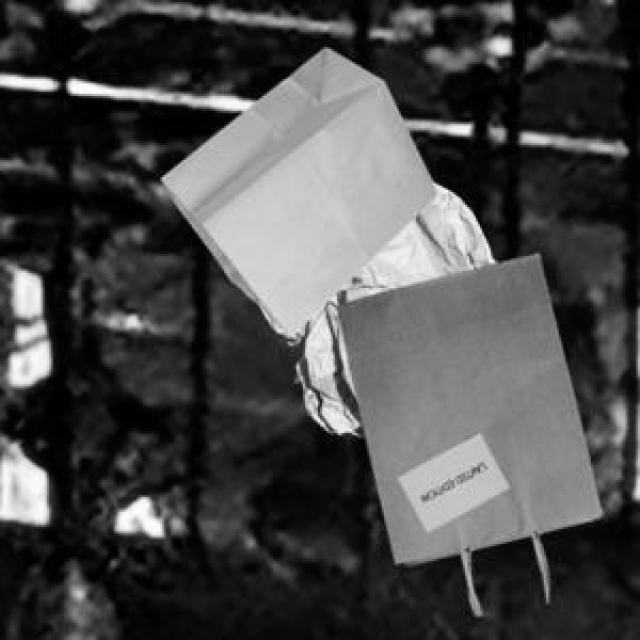paper: (335, 250, 597, 612), (158, 45, 433, 331), (260, 179, 493, 433)
